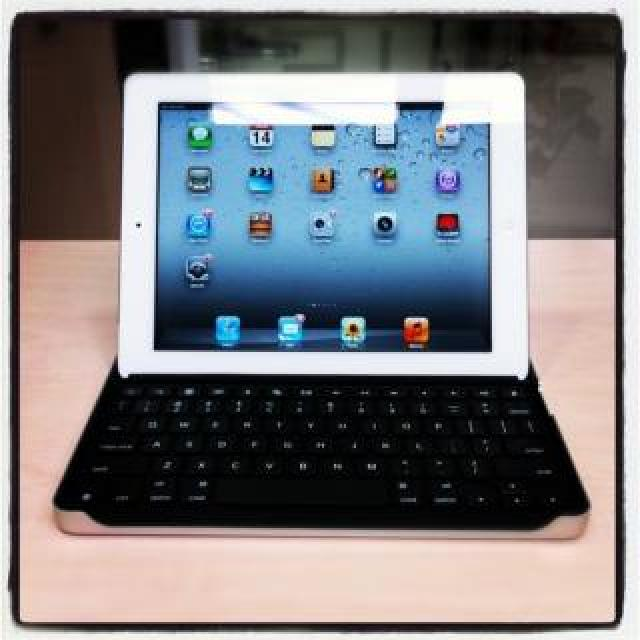laptop_computer: (84, 57, 598, 540)
